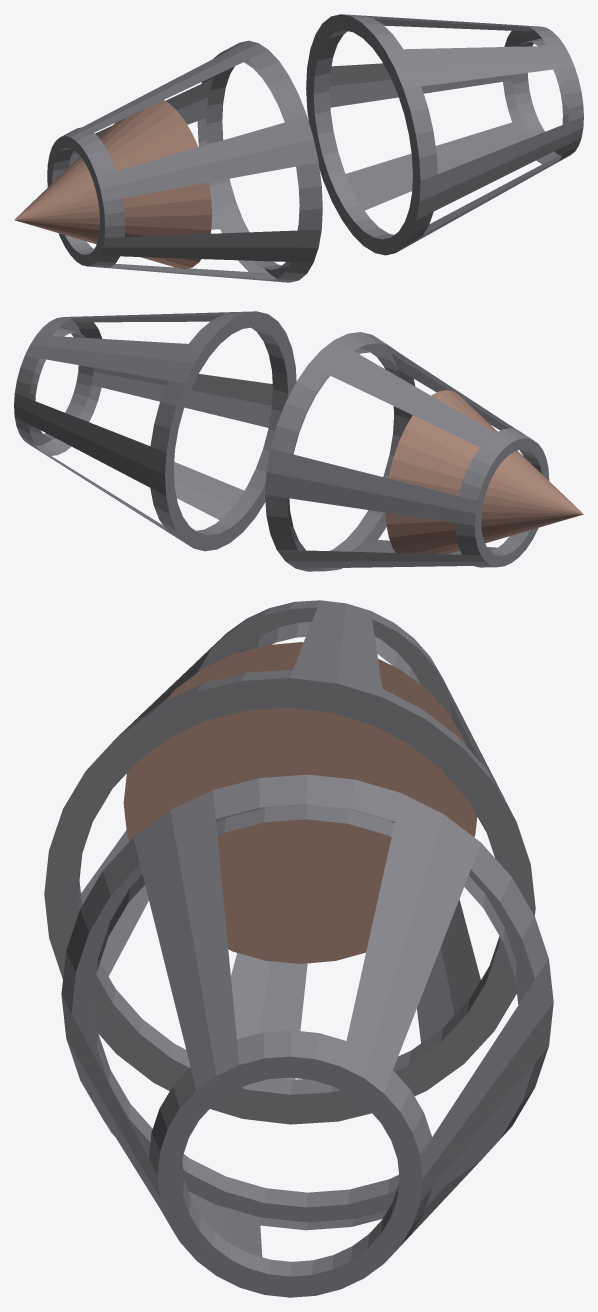
File: Escultura5.fbx
3 views of the same model, one above another, from view 1: azimuth 30°, elevation 25°; view 2: azimuth 150°, elevation 25°; view 3: azimuth 270°, elevation 25° (orthographic). The views are drawn at different scales.
Visible parts, largest first — view 1: Cylinder, Cylinder.001, Cone; view 2: Cylinder, Cylinder.001, Cone; view 3: Cylinder, Cylinder.001, Cone.
Part boxes in pixels (left/top/right/bottom): Cylinder: left=306, top=14, right=583, bottom=255; Cylinder.001: left=47, top=40, right=322, bottom=282; Cone: left=14, top=100, right=212, bottom=269; Cylinder: left=14, top=311, right=296, bottom=551; Cylinder.001: left=265, top=332, right=549, bottom=571; Cone: left=385, top=390, right=583, bottom=554; Cylinder: left=61, top=774, right=553, bottom=1297; Cylinder.001: left=44, top=600, right=535, bottom=1124; Cone: left=123, top=642, right=477, bottom=963.
Bounding box in the file's own units: 1328 × 527 × 544.
